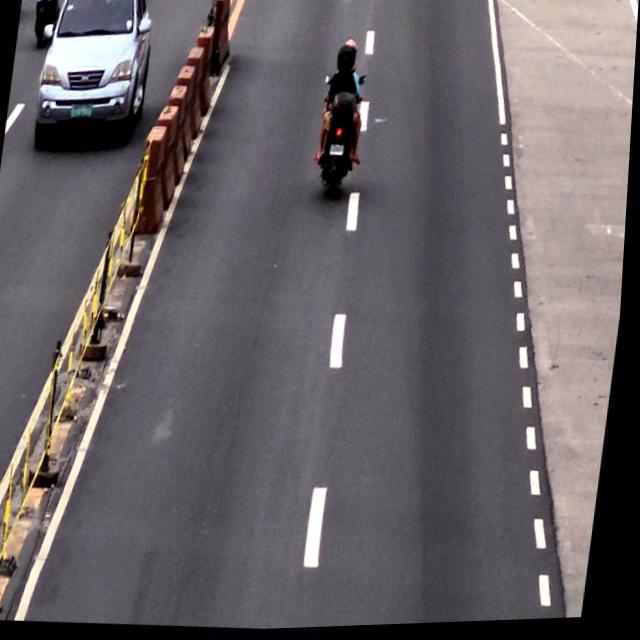License-Plate: (329, 144, 348, 161)
Motorcycle: (311, 41, 373, 205)
